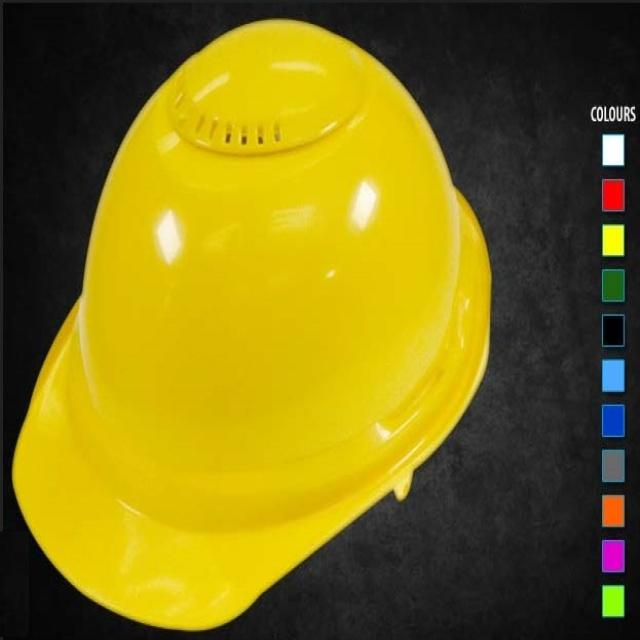helmet: (9, 23, 498, 640)
